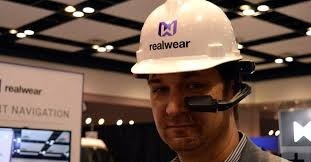helmet: (130, 1, 246, 71)
person with partial safety: (120, 1, 282, 162)
